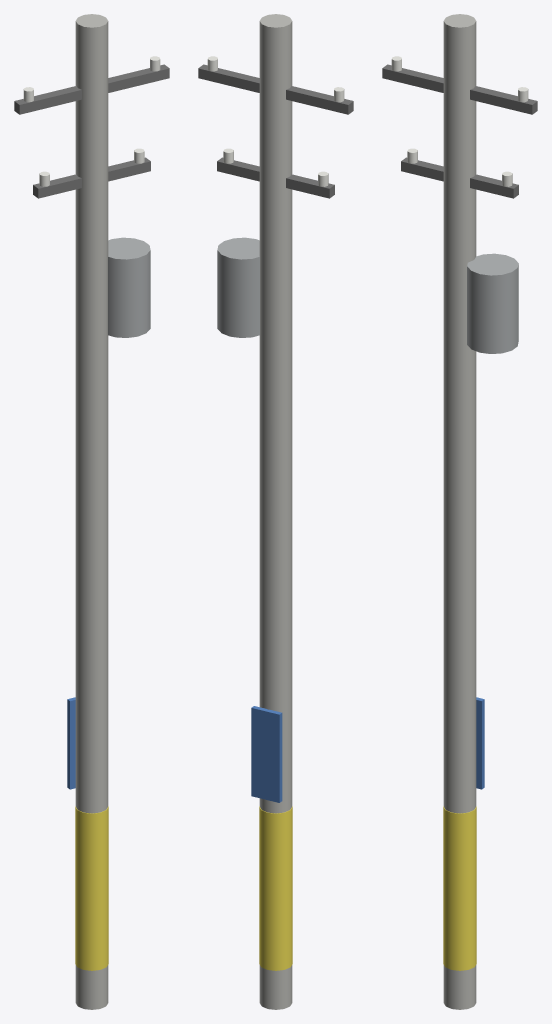
File: pole.glb
3 renders of one model, left to right at view 1: azimuth 30°, elevation 25°; view 2: azimuth 150°, elevation 25°; view 3: azimuth 330°, elevation 25°, orthographic.
Visible parts, largest first — view 1: PoleMesh; view 2: PoleMesh; view 3: PoleMesh.
Part boxes in pixels (x1,y1,x2,y2): PoleMesh: (14,14,169,1009); PoleMesh: (198,14,353,1009); PoleMesh: (382,14,537,1009).
Size of the model in its own units: 1.6 by 10 by 0.48.
